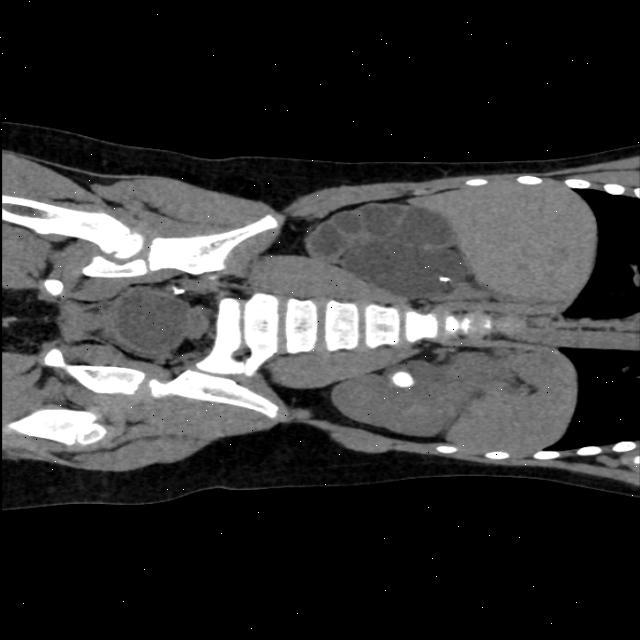kidneystone: (391, 371, 413, 388), (439, 276, 449, 282)
